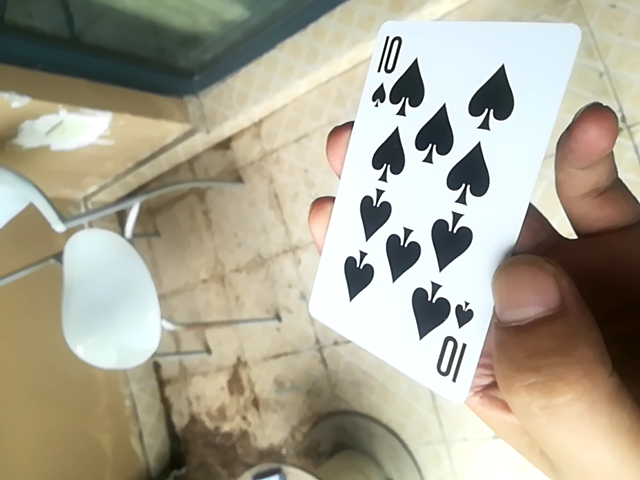ht 10: (307, 22, 586, 409)
